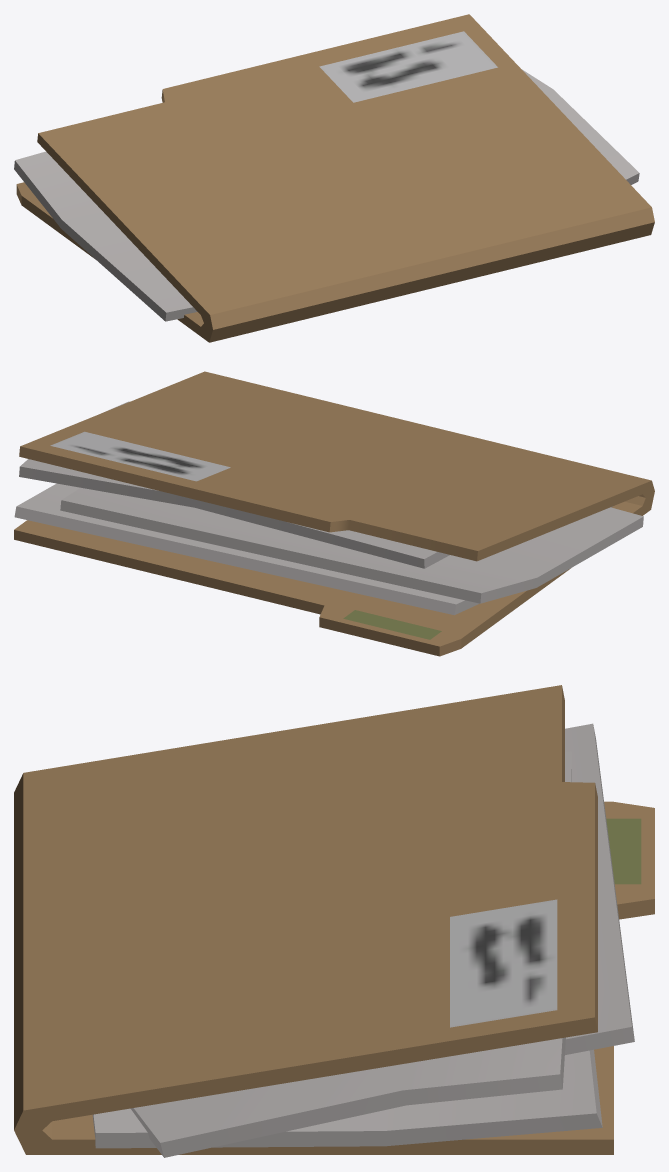
The model's file is SM_Prop_Folder_Manila_02.glb.
3 views of the same model, one above another, from view 1: azimuth 30°, elevation 25°; view 2: azimuth 150°, elevation 25°; view 3: azimuth 270°, elevation 25° (orthographic). The views are drawn at different scales.
Parts seen in each view (by area): view 1: SM_Prop_Folder_Manila_02; view 2: SM_Prop_Folder_Manila_02; view 3: SM_Prop_Folder_Manila_02.
Boxes of the visible parts, bbox=[...] form: SM_Prop_Folder_Manila_02: bbox=[14, 14, 654, 342]; SM_Prop_Folder_Manila_02: bbox=[14, 371, 654, 656]; SM_Prop_Folder_Manila_02: bbox=[14, 685, 654, 1157].
Size of the model in its own units: 0.4249 by 0.0726 by 0.3066.
Materials: 1 (1 with a texture image).
